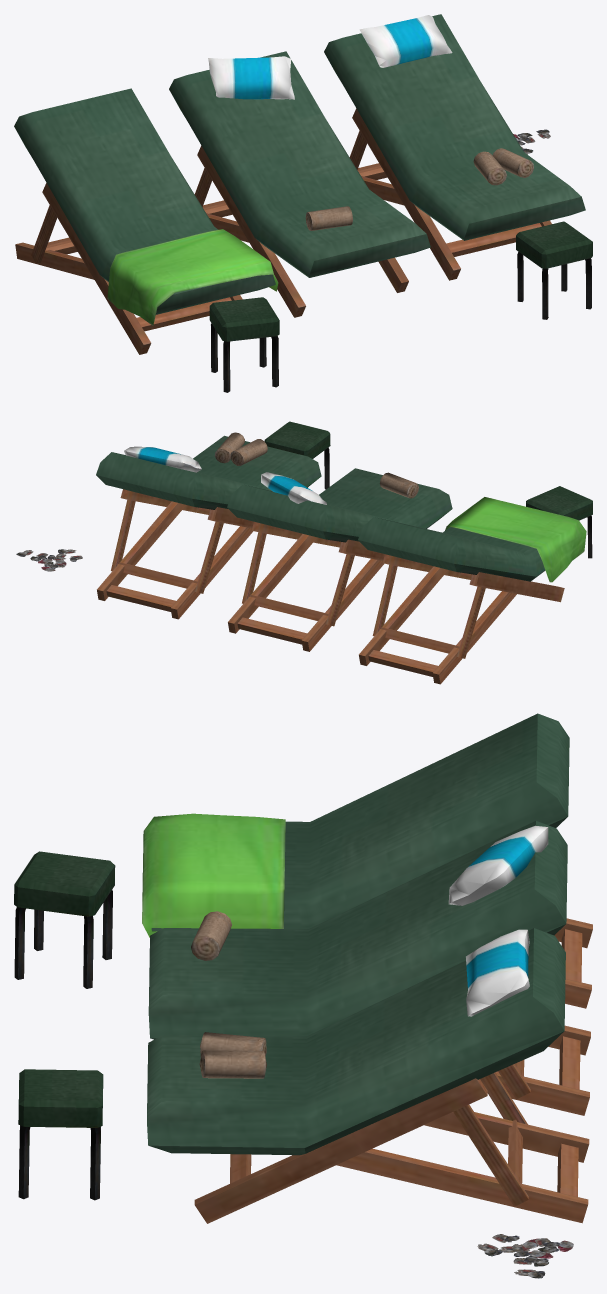
Rendered from massage.glb.
3 views of the same model, one above another, from view 1: azimuth 30°, elevation 25°; view 2: azimuth 150°, elevation 25°; view 3: azimuth 270°, elevation 25° (orthographic). The views are drawn at different scales.
Bounding box in the file's own units: 4.69 × 1.42 × 3.08.
2 materials, 2 textured.
